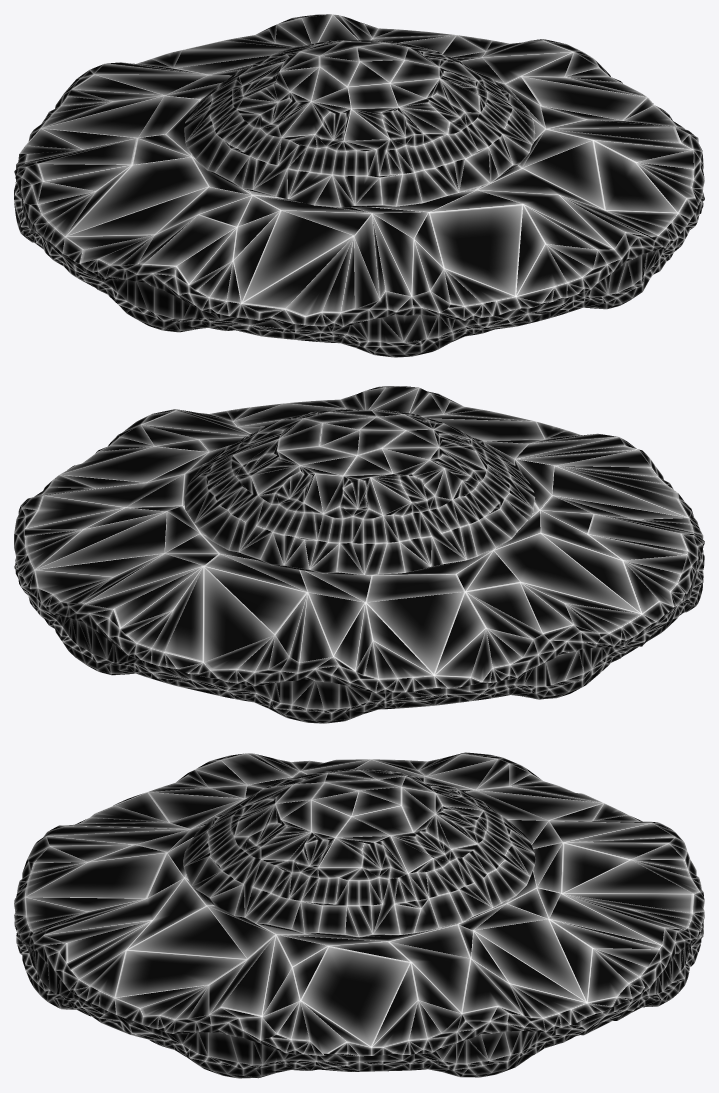
The model's file is frame_042.obj.
The picture shows the model from 3 angles, top to bottom: view 1: azimuth 30°, elevation 25°; view 2: azimuth 150°, elevation 25°; view 3: azimuth 270°, elevation 25°; orthographic projection.
Parts seen in each view (by area): view 1: 13884_UFO_Saucer_v1_l2; view 2: 13884_UFO_Saucer_v1_l2; view 3: 13884_UFO_Saucer_v1_l2.
Part boxes in pixels (x1,y1,x2,y2): 13884_UFO_Saucer_v1_l2: [14, 14, 704, 357]; 13884_UFO_Saucer_v1_l2: [14, 386, 704, 723]; 13884_UFO_Saucer_v1_l2: [14, 752, 704, 1078].
Size of the model in its own units: 12.69 by 4.88 by 12.7.
Materials: 1 (1 with a texture image).
